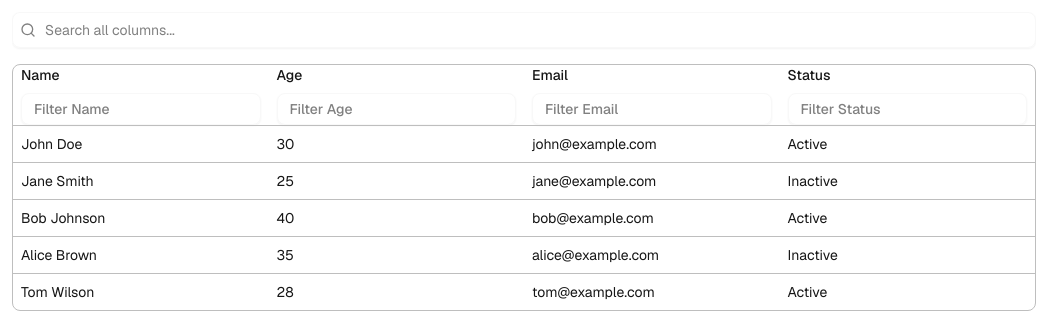
Scenario: DynamicTable › handles filtering when enabled
# Filter for "John"
Type "John" into the field with placeholder "Search all columns..." at point(524, 30), box [12,12,1036,48]
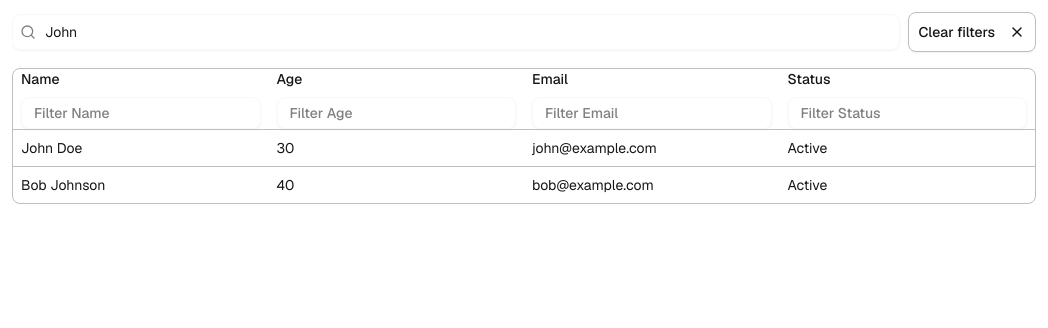
Expected: the text "John Doe" is shown, [13,130,268,166]
Expected: the text "Jane Smith" is gone
# Clear filter
Click the button "Clear filters" at point(972, 32), box [908,12,1036,52]
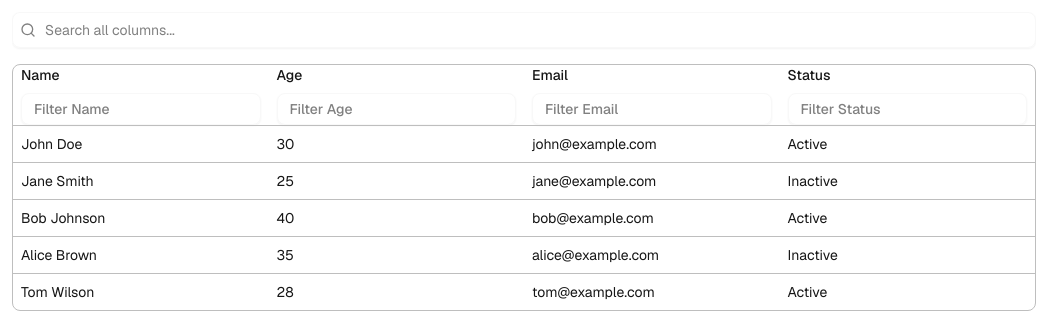
Expected: the text "John Doe" is shown, [13,126,268,162]
Expected: the text "Jane Smith" is shown, [13,162,268,200]
# Test column filter
Type "Jane" into the field with placeholder "Filter Name" at point(141, 109), box [21,93,260,125]
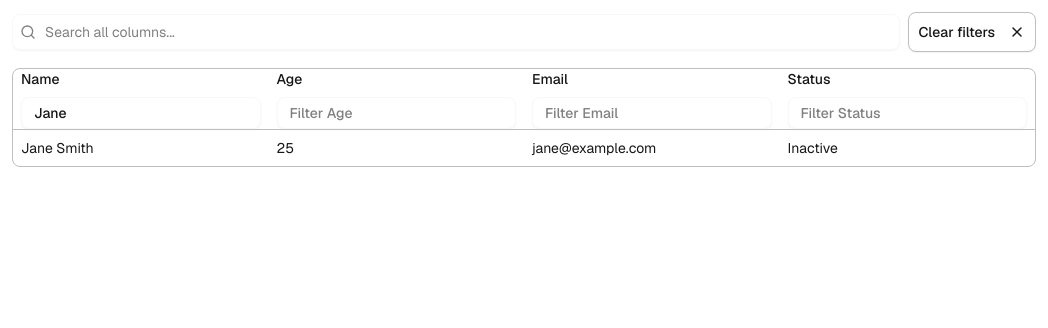
Expected: the text "John Doe" is gone
Expected: the text "Jane Smith" is shown, [13,130,268,166]
